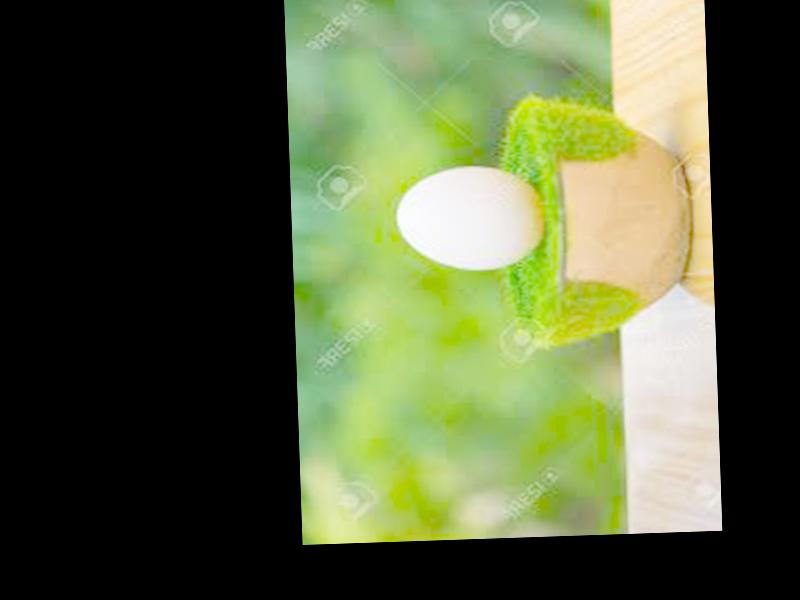Eggs: (398, 166, 546, 275)
